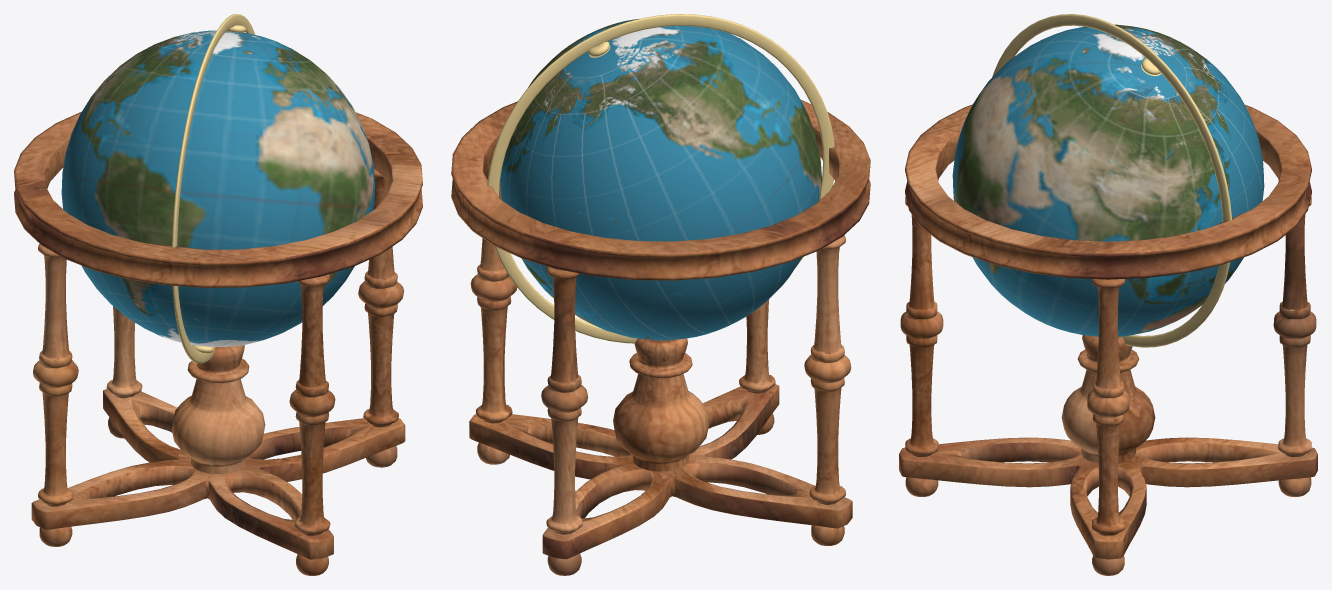
The model's file is cradle_globe_game_ready__4k_pbr.glb.
The picture shows the model from 3 angles, left to right: view 1: azimuth 30°, elevation 25°; view 2: azimuth 150°, elevation 25°; view 3: azimuth 270°, elevation 25°; orthographic projection. The views are drawn at different scales.
Parts seen in each view (by area): view 1: Cradle Globe; view 2: Cradle Globe; view 3: Cradle Globe.
Part boxes in pixels (box(x1,y1,x2,y2)): Cradle Globe: box(14, 14, 422, 575); Cradle Globe: box(451, 14, 870, 575); Cradle Globe: box(899, 14, 1317, 575).
Size of the model in its own units: 1.11 by 1.37 by 1.11.
1 material, 1 textured.
